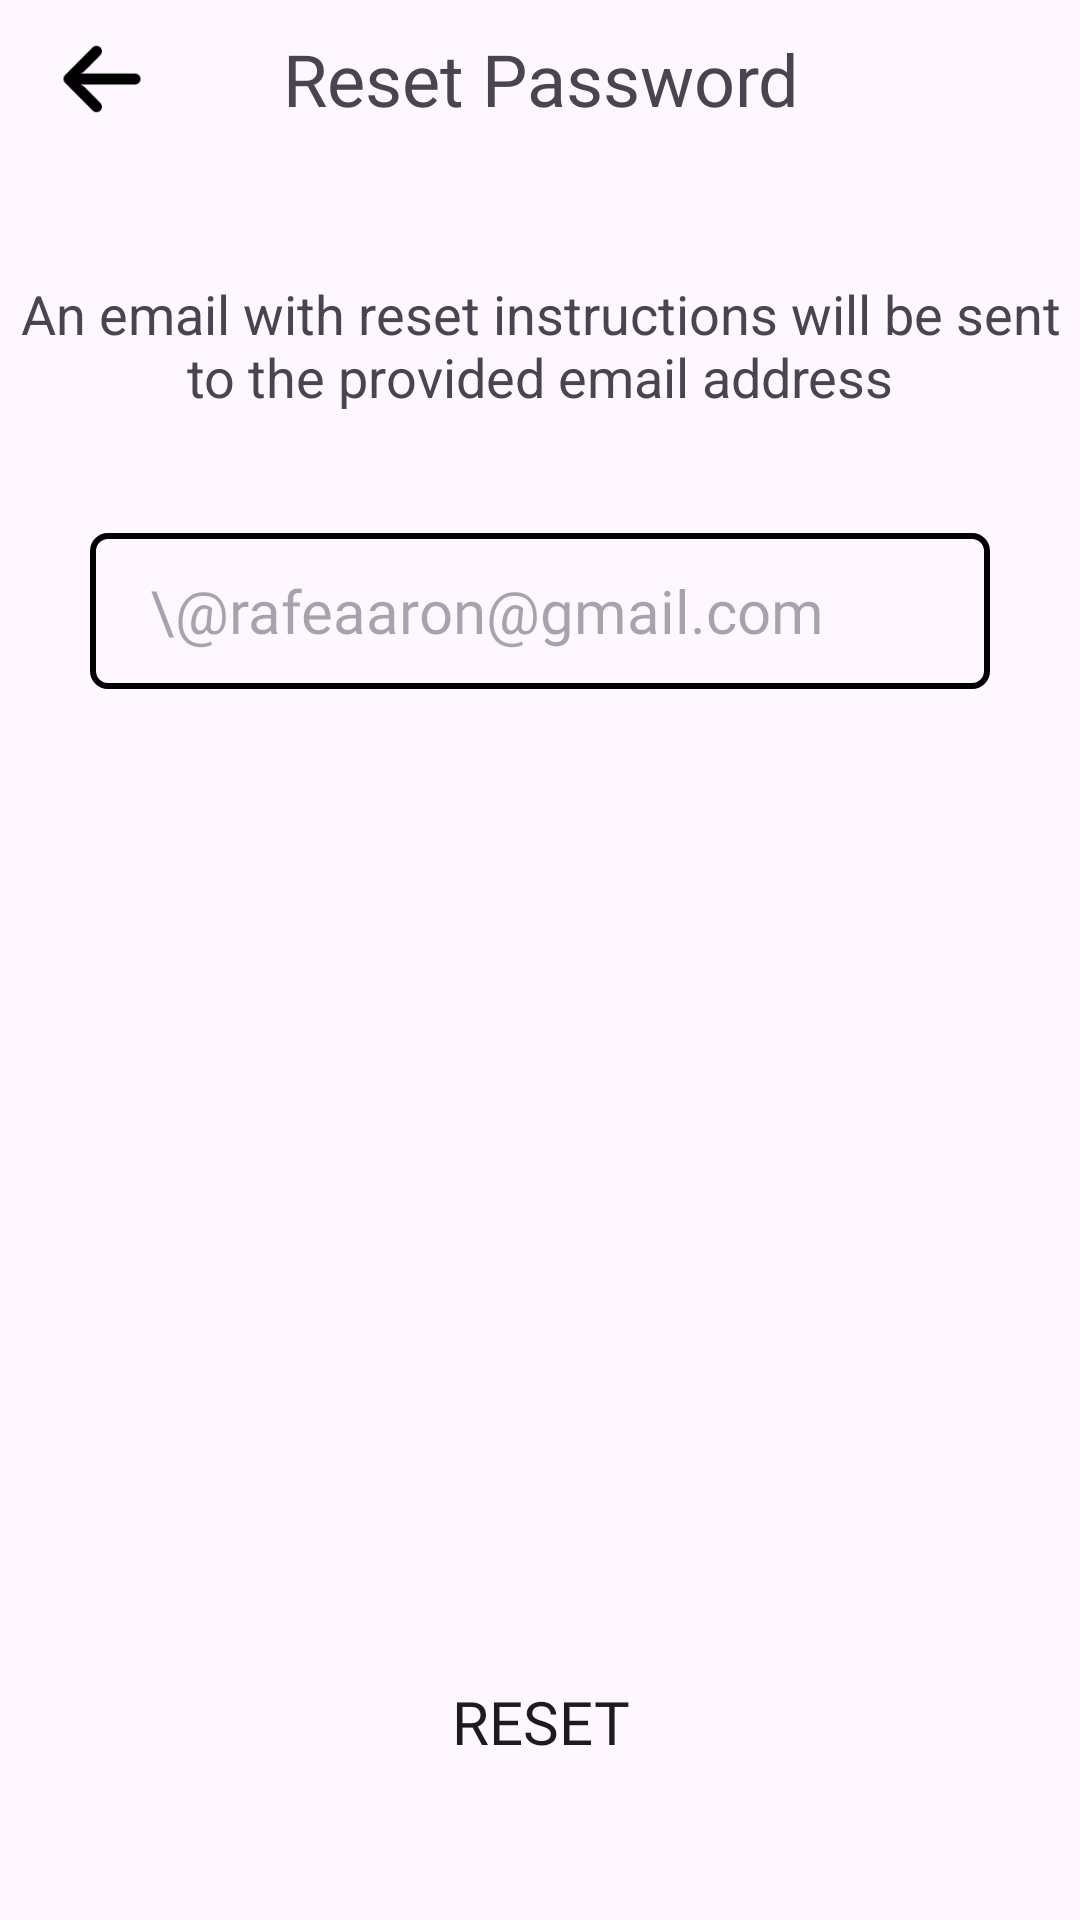

Screen size 1080*1920. Icon name, then its center in pixels as point (x, y):
back arrow: point (102, 79)
